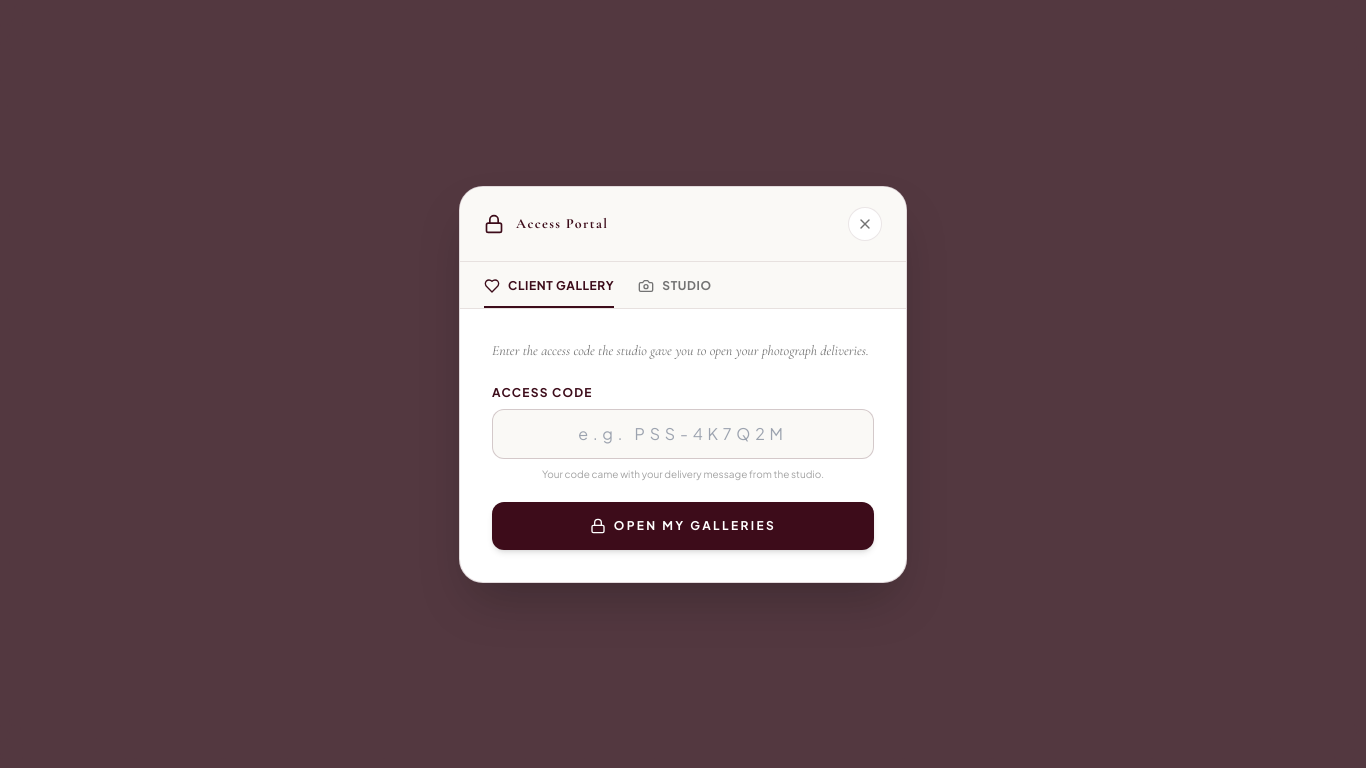
Test: AuthModal — client sign-in (real check) › says "try again" — not "wrong code" — when the lookup itself fails
Type "PSS-4K7Q2M" into the field labelled "Access code" at (683, 434), box x1=492 y1=408 x2=874 y2=458
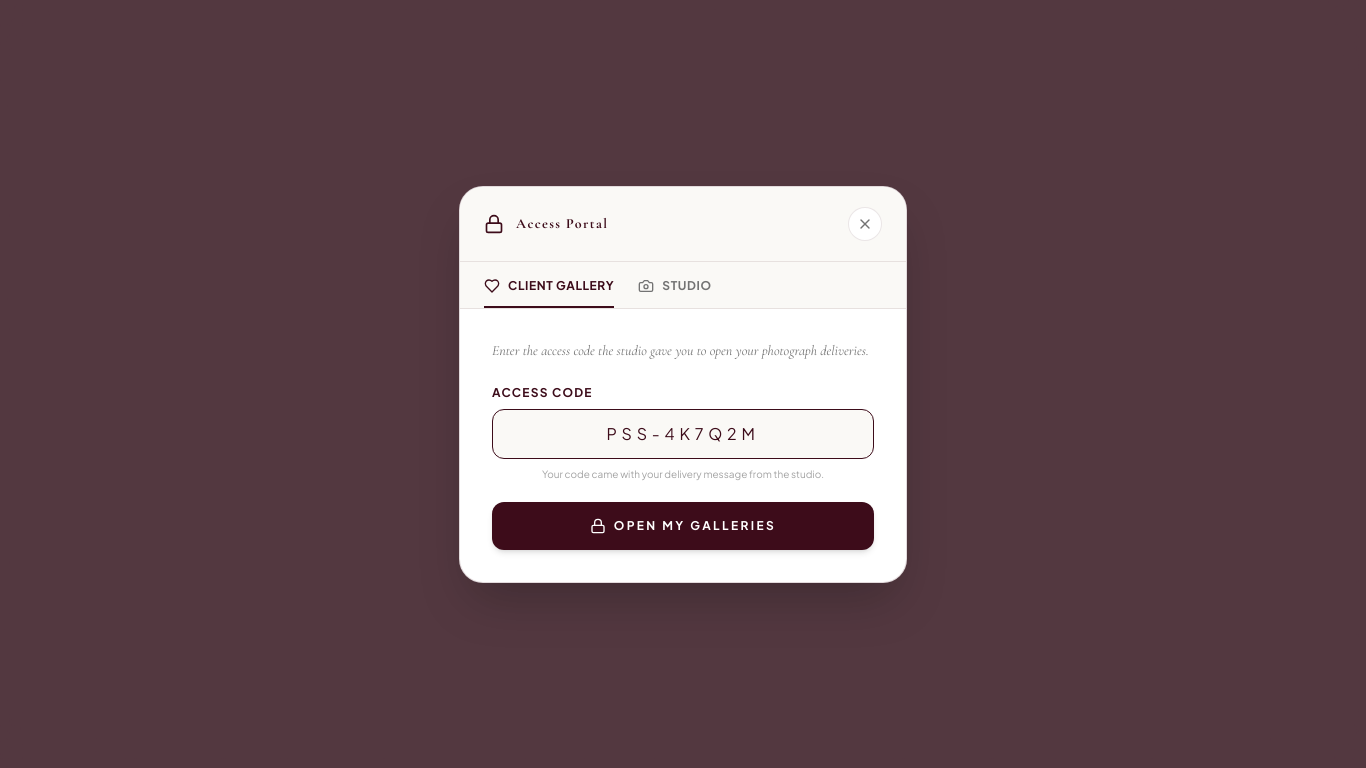
Click the button "Open My Galleries" at (683, 526), box x1=492 y1=502 x2=874 y2=550
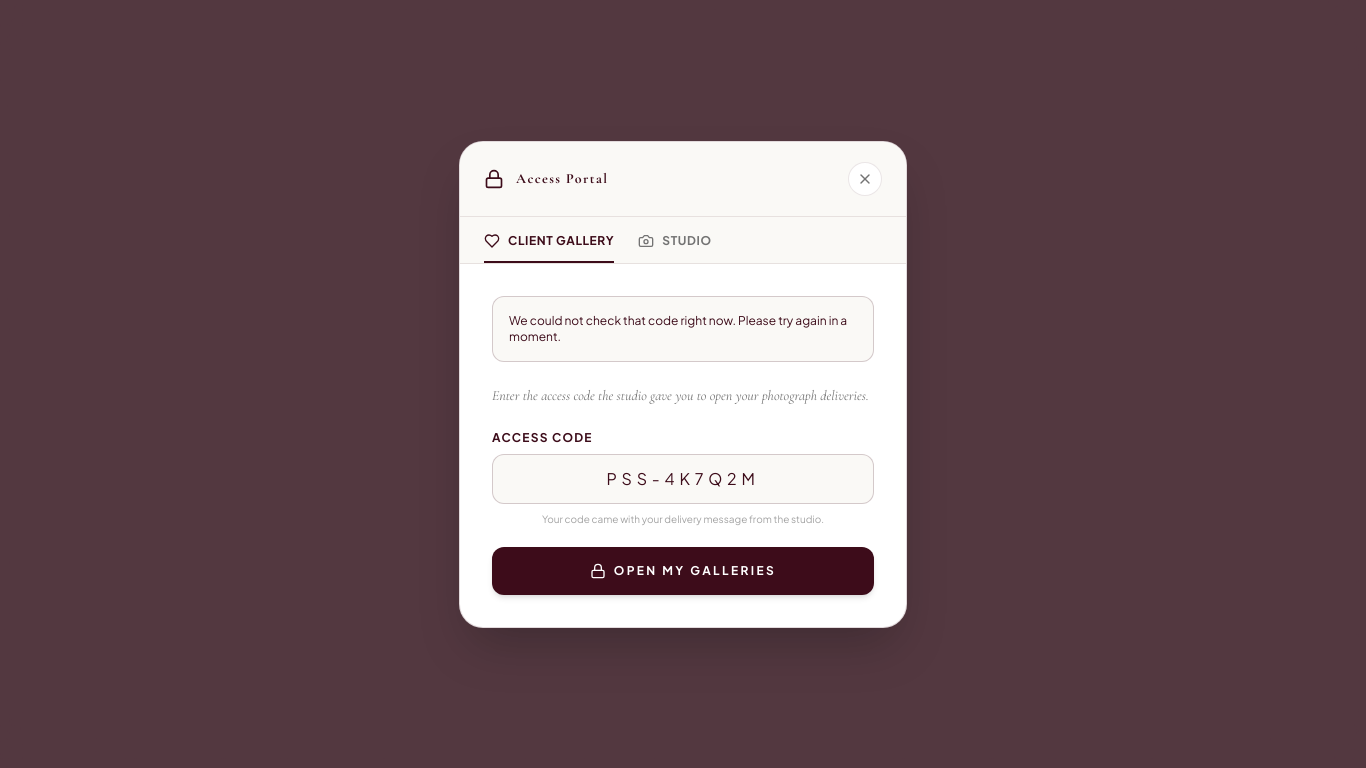
Now the message shows "try again", box x1=509 y1=312 x2=847 y2=344
